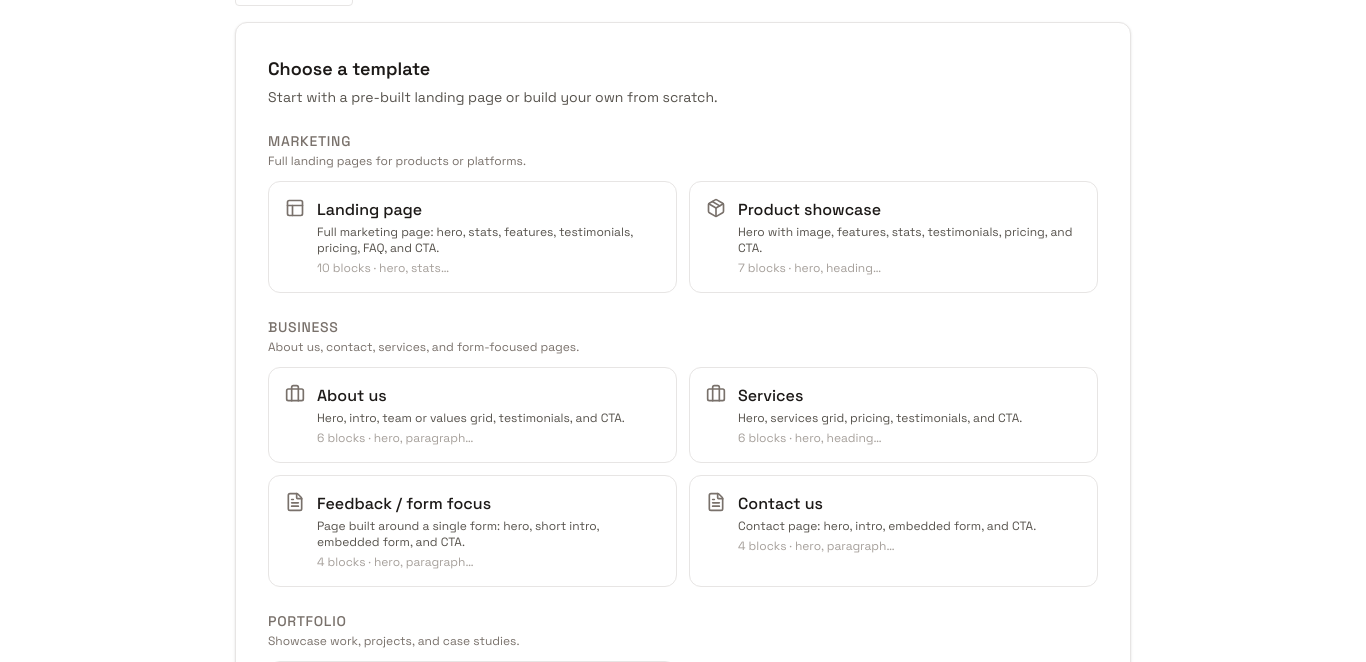
Test case: CreatePagePage › selecting a template pre-fills blocks and advances to build step
Click the button "Landing page" at (472, 237), box [268, 181, 677, 293]
(page scrolled)
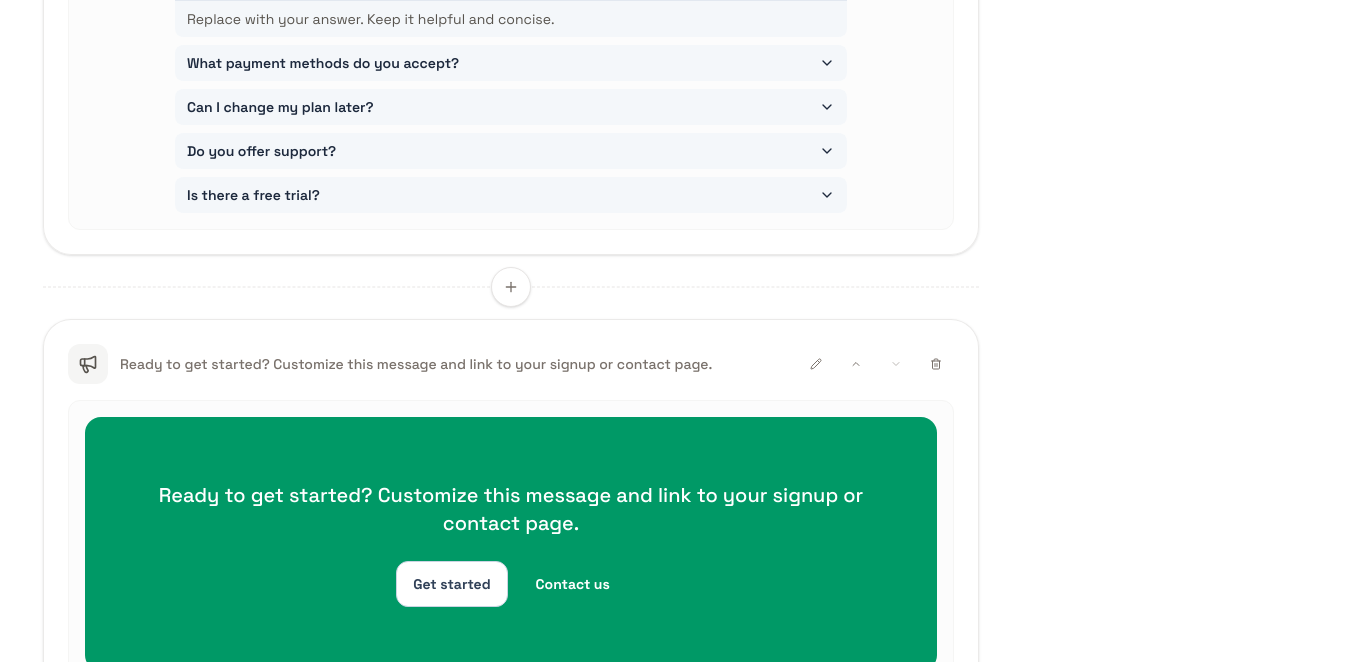
Expected: the button named "edit cta banner block" is shown, [798, 346, 834, 382]
